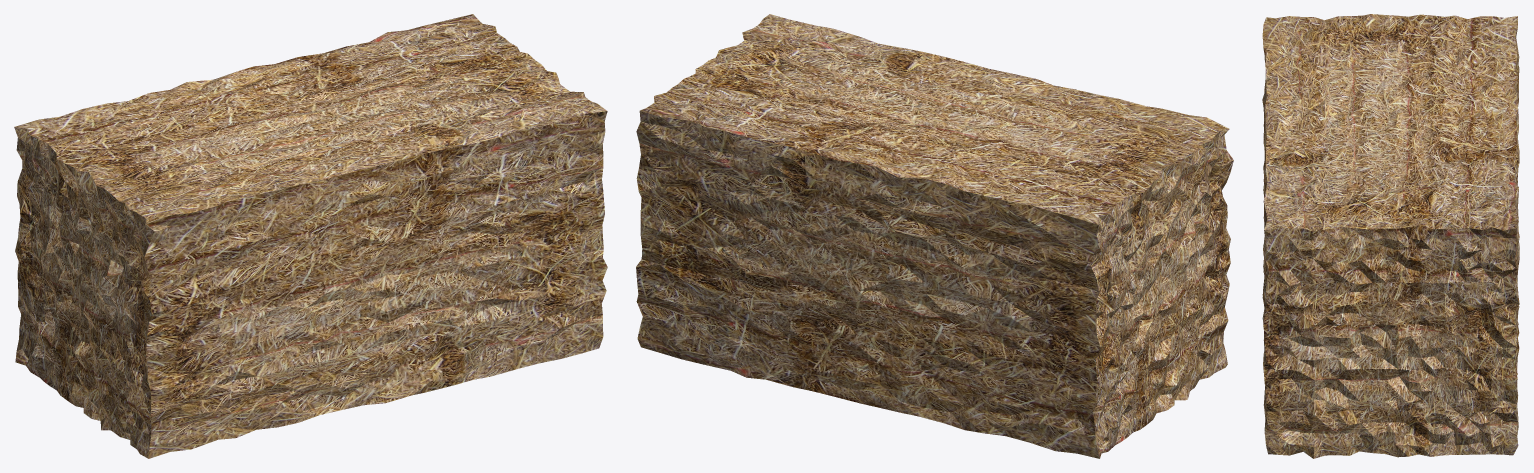
Rendered from strawbale_noise.dae.
The picture shows the model from 3 angles, left to right: view 1: azimuth 30°, elevation 25°; view 2: azimuth 150°, elevation 25°; view 3: azimuth 270°, elevation 25°; orthographic projection. The views are drawn at different scales.
Parts seen in each view (by area): view 1: Cube.001; view 2: Cube.001; view 3: Cube.001.
Boxes of the visible parts, left/top/right/bottom form: Cube.001: left=14, top=14, right=607, bottom=458; Cube.001: left=636, top=14, right=1233, bottom=458; Cube.001: left=1262, top=14, right=1519, bottom=458.
Bounding box in the file's own units: 1.03 × 0.5137 × 0.5138.
Materials: 1 (1 with a texture image).
